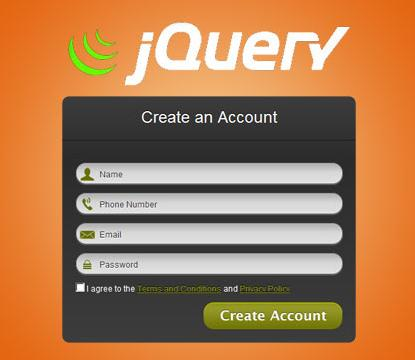button: (201, 301, 345, 330)
checkbox: (74, 281, 87, 294)
checkbox_with_label: (73, 279, 292, 295)
field: (73, 160, 345, 187), (74, 221, 345, 247), (73, 252, 344, 277), (73, 192, 345, 216)
